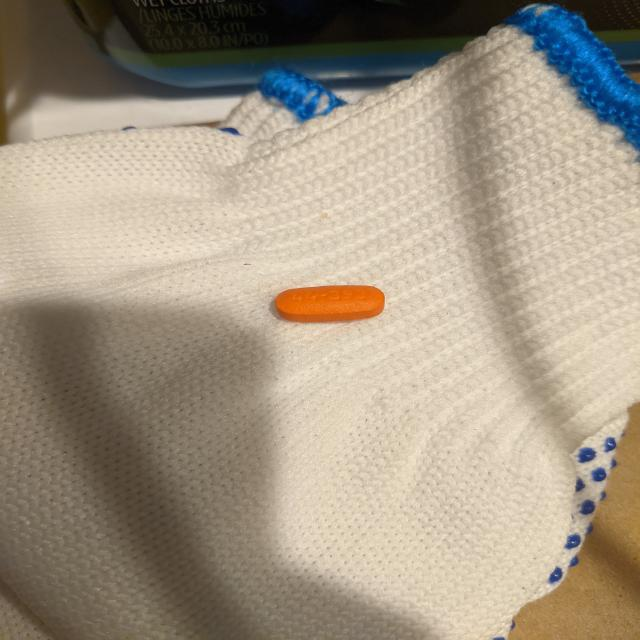non-organic waste: (274, 284, 386, 323)
